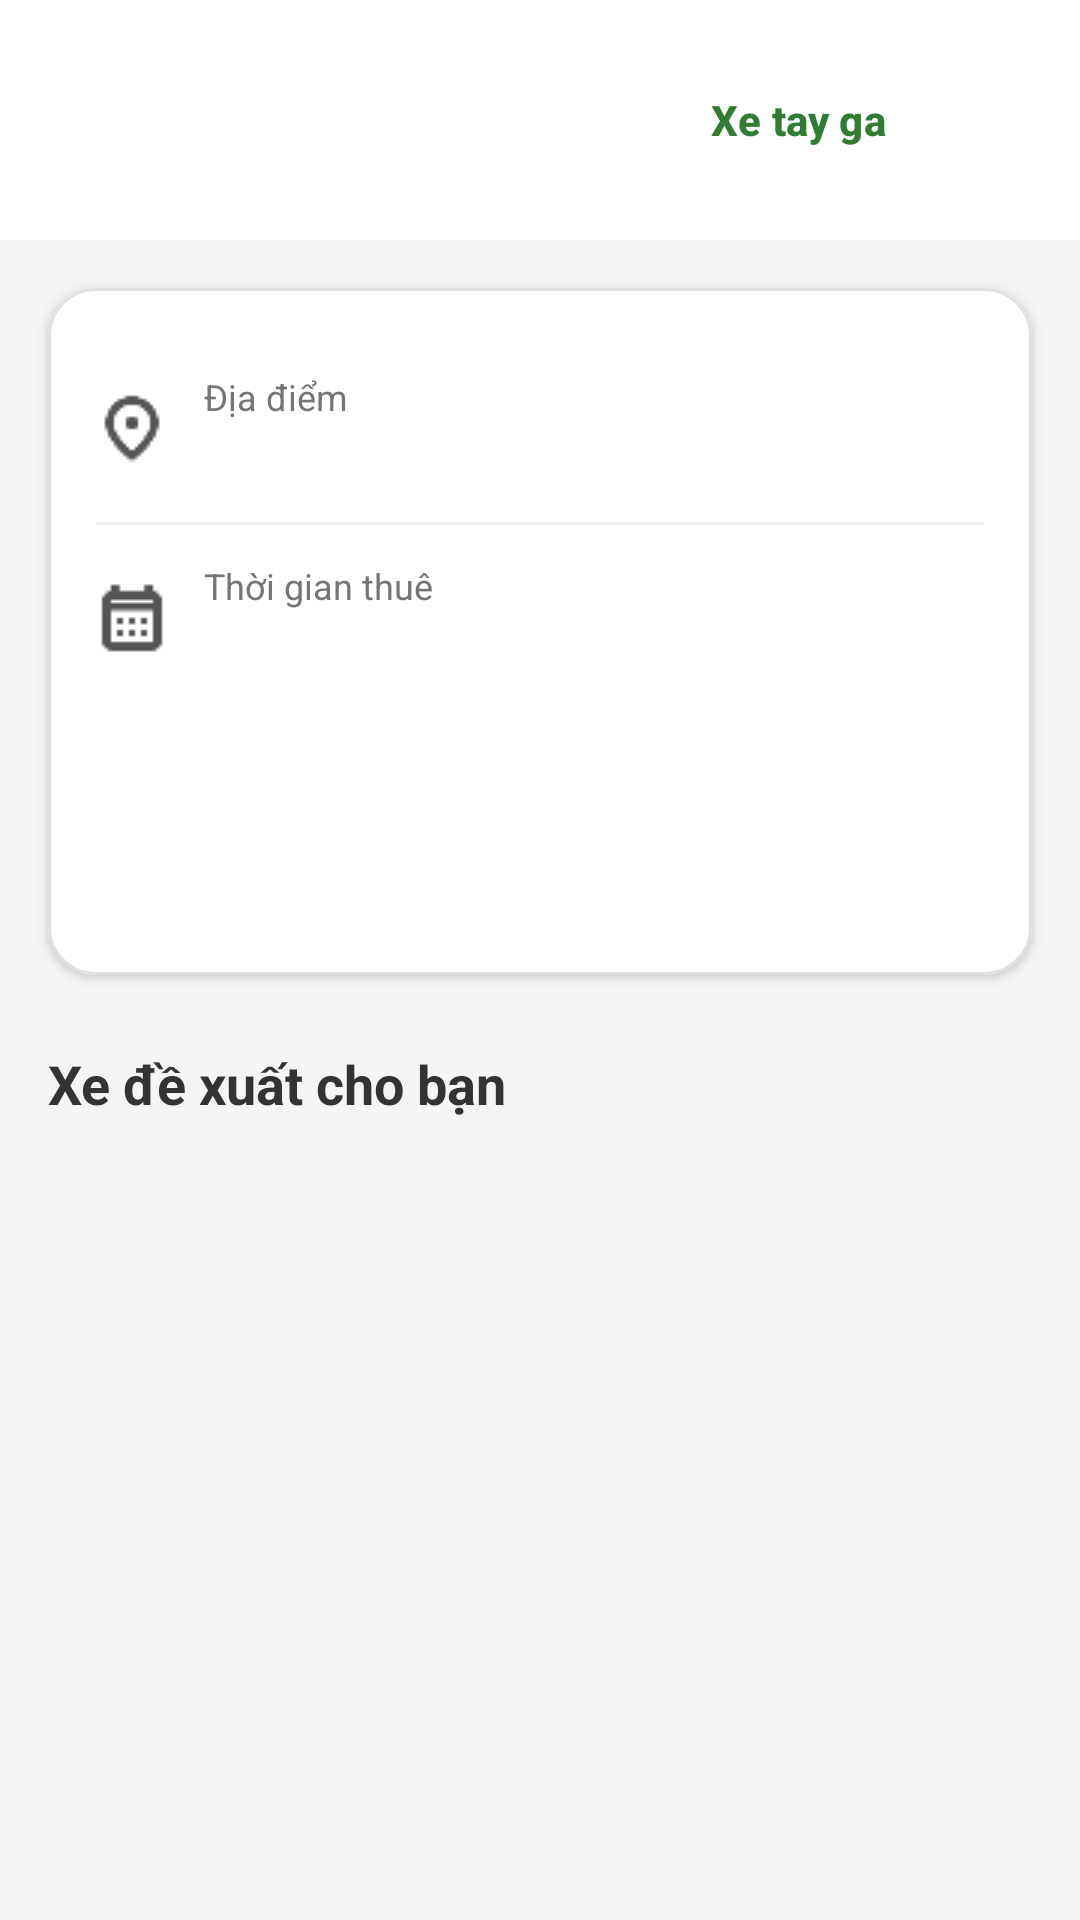

Icons on this 1080x1920 Android screen, each with the point to tap as point (x, y):
calendar: point (132, 618)
location: point (132, 428)
